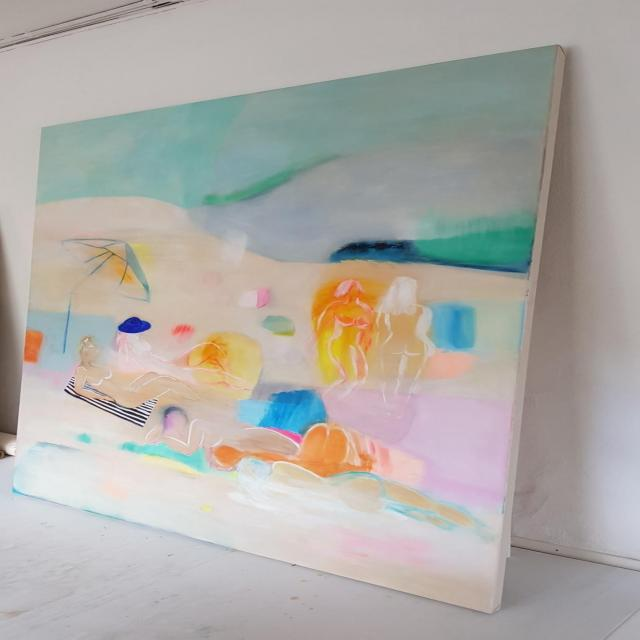painting: (14, 46, 560, 611)
